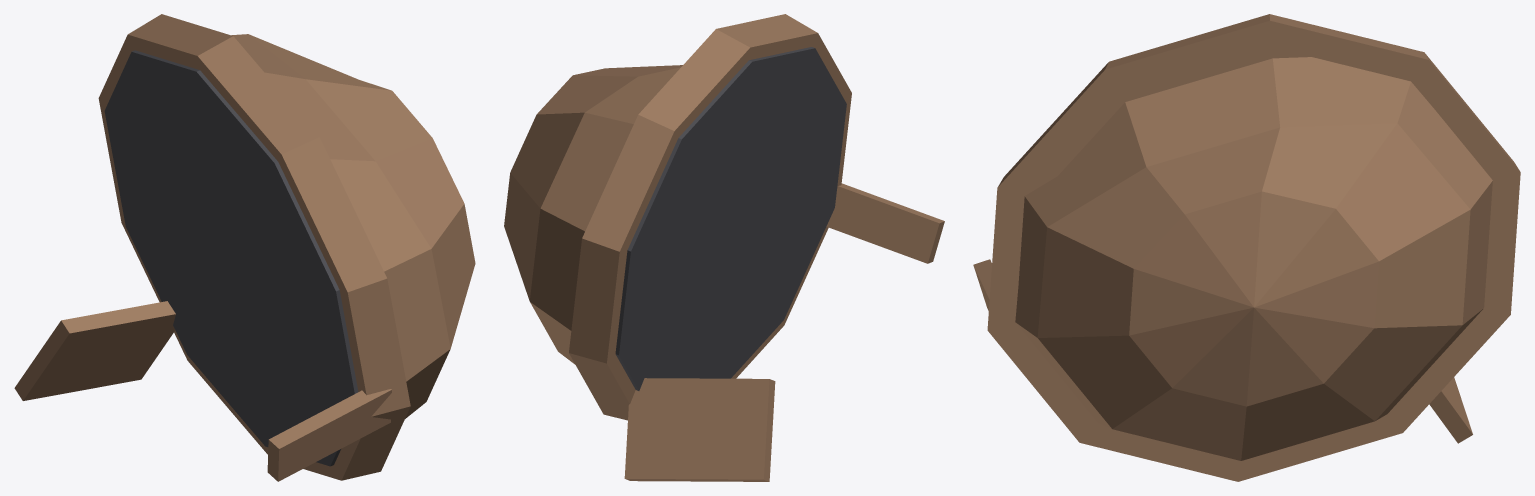
The model's file is prop_helmet.glb.
The picture shows the model from 3 angles, left to right: view 1: azimuth 30°, elevation 25°; view 2: azimuth 150°, elevation 25°; view 3: azimuth 270°, elevation 25°; orthographic projection. The views are drawn at different scales.
Visible parts, largest first — view 1: prop_helmet_mesh; view 2: prop_helmet_mesh; view 3: prop_helmet_mesh.
Part boxes in pixels (left/top/right/bottom): prop_helmet_mesh: left=14, top=14, right=475, bottom=481; prop_helmet_mesh: left=504, top=14, right=944, bottom=481; prop_helmet_mesh: left=973, top=14, right=1520, bottom=481.
Size of the model in its own units: 0.2665 by 0.322 by 0.3704.
